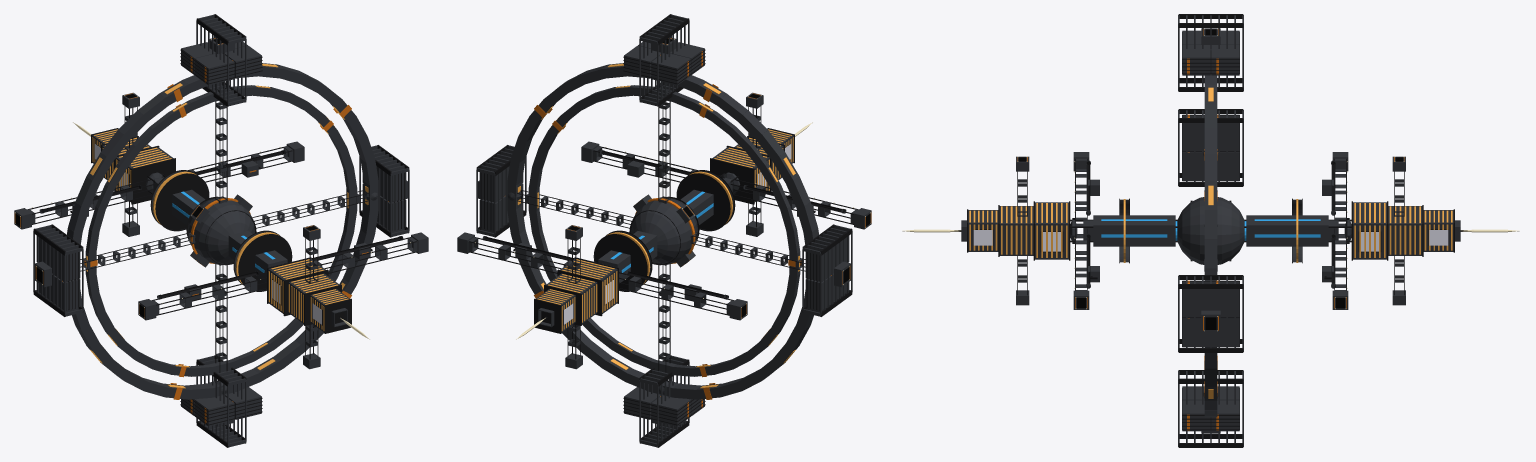
The model's file is station2_standard.obj.
3 renders of one model, left to right at view 1: azimuth 30°, elevation 25°; view 2: azimuth 150°, elevation 25°; view 3: azimuth 270°, elevation 25°, orthographic. The views are drawn at different scales.
Visible parts, largest first — view 1: hull, hull2, window, accent, ad; view 2: hull, hull2, window, accent, ad; view 3: hull, hull2, window, ad, cyan.
Part boxes in pixels (<box>): hull: <box>14,14,428,447</box>; hull2: <box>27,14,416,447</box>; window: <box>86,63,368,388</box>; accent: <box>14,38,388,423</box>; ad: <box>94,144,321,324</box>; hull: <box>457,14,871,447</box>; hull2: <box>469,14,858,447</box>; window: <box>517,63,799,388</box>; accent: <box>534,38,871,418</box>; ad: <box>564,144,791,324</box>; hull: <box>961,15,1460,446</box>; hull2: <box>954,14,1467,447</box>; window: <box>969,87,1452,398</box>; ad: <box>973,230,1448,251</box>; cyan: <box>1101,219,1320,240</box>.
Size of the model in its own units: 112 by 119 by 158.
